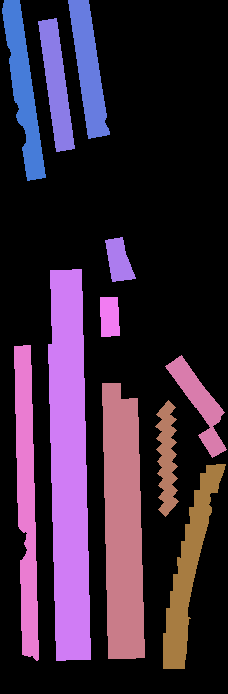parkingspot: (163, 464, 225, 668), (62, 269, 90, 659), (48, 270, 74, 660), (2, 0, 45, 180), (14, 345, 38, 660), (102, 383, 127, 658), (119, 398, 144, 658), (68, 0, 109, 138), (38, 18, 74, 151), (165, 355, 224, 427), (155, 400, 178, 516), (105, 237, 135, 281), (198, 426, 226, 457), (100, 297, 119, 336)
